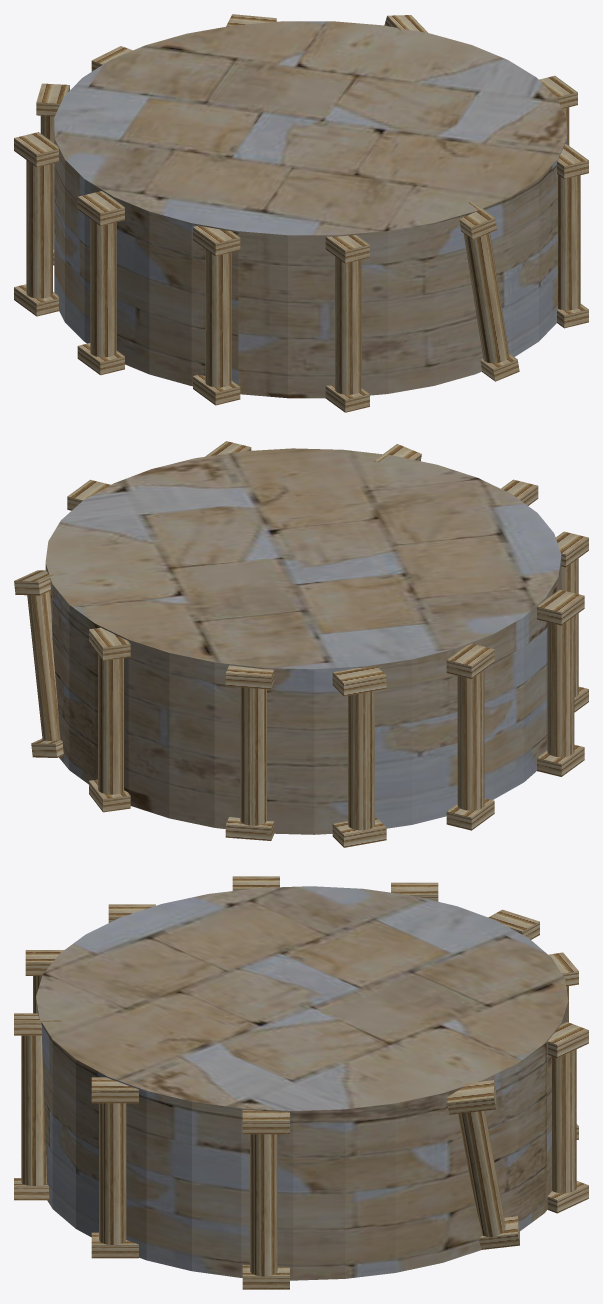
The model's file is Gracestand.fbx.
3 views of the same model, one above another, from view 1: azimuth 30°, elevation 25°; view 2: azimuth 150°, elevation 25°; view 3: azimuth 270°, elevation 25° (orthographic). The views are drawn at different scales.
Visible parts, largest first — view 1: Cylinder, Cube; view 2: Cylinder, Cube; view 3: Cylinder, Cube.
Boxes of the visible parts, x1,y1,x2,y2 form: Cylinder: [54, 21, 566, 398]; Cube: [14, 14, 588, 412]; Cylinder: [45, 448, 561, 834]; Cube: [14, 441, 588, 847]; Cylinder: [36, 886, 568, 1280]; Cube: [14, 876, 588, 1289].
Bounding box in the file's own units: 150 × 50.02 × 149.
Materials: 12 (12 with a texture image).
